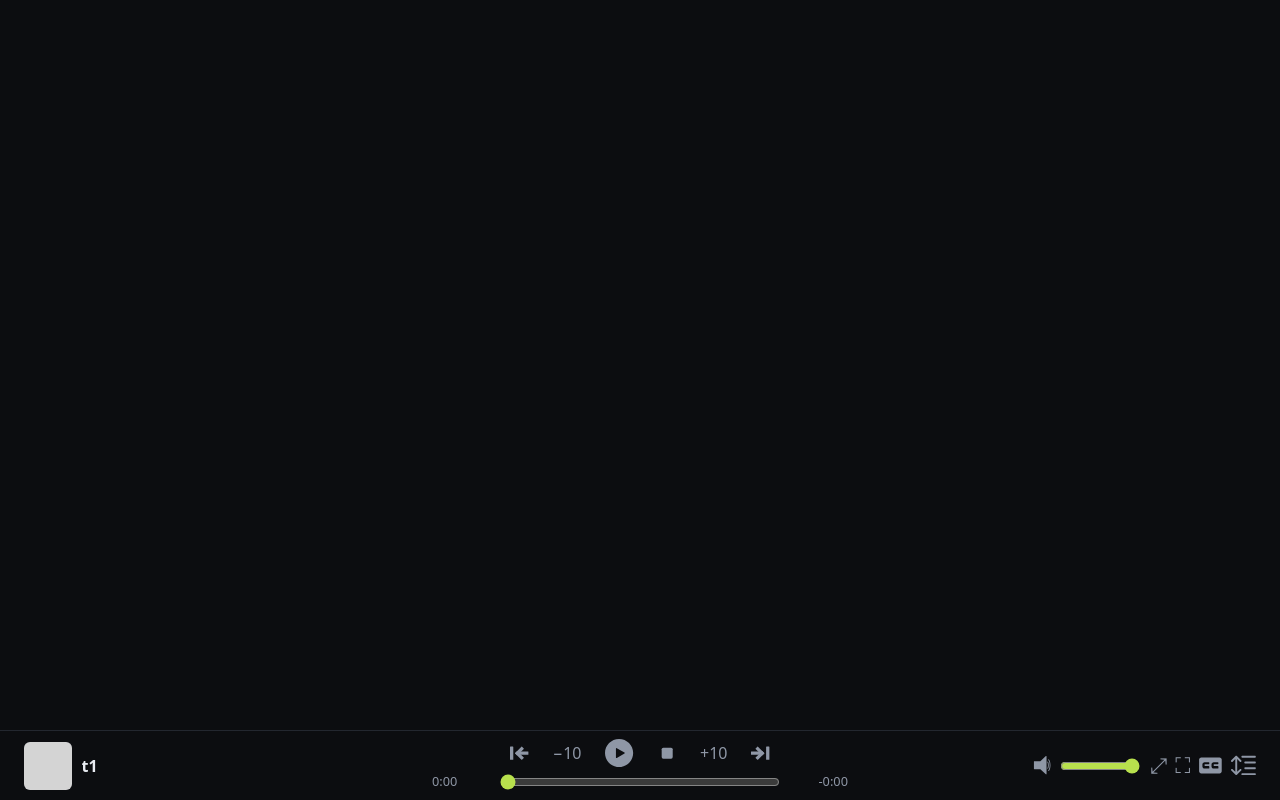
NowPlayingBar — queue drawer reshaping › renders the ordered entries with the current one marked
Click the button with test id "now-playing-queue-button". click: [1244, 766]
box: [1231,753,1256,778]
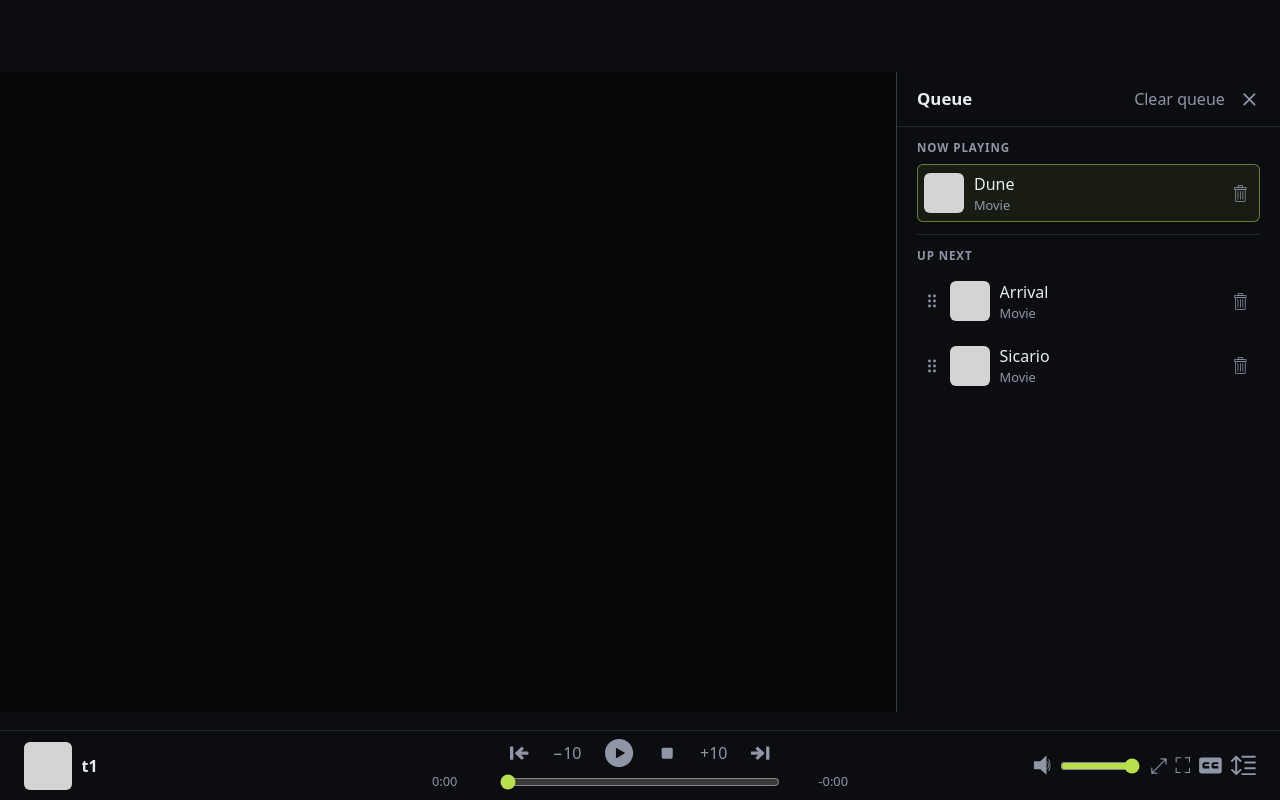
Expected: the element with test id "queue-panel" is shown, [897,72,1279,386]
